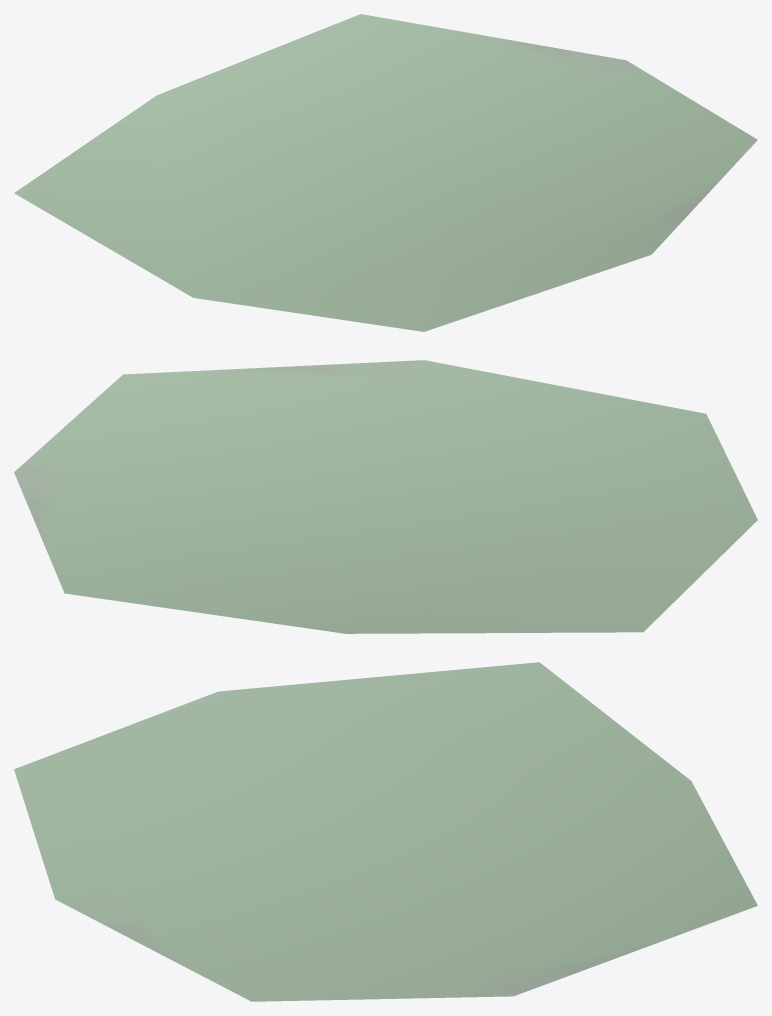
File: TROLLHOLE02_HOLECAP72.fbx
3 views of the same model, one above another, from view 1: azimuth 30°, elevation 25°; view 2: azimuth 150°, elevation 25°; view 3: azimuth 270°, elevation 25° (orthographic). The views are drawn at different scales.
Parts seen in each view (by area): view 1: TROLLHOLE02_HOLECAP72; view 2: TROLLHOLE02_HOLECAP72; view 3: TROLLHOLE02_HOLECAP72.
Boxes of the visible parts, x1,y1,x2,y2 form: TROLLHOLE02_HOLECAP72: [14, 14, 757, 331]; TROLLHOLE02_HOLECAP72: [14, 360, 757, 633]; TROLLHOLE02_HOLECAP72: [14, 662, 757, 1001].
Size of the model in its own units: 20880 by 322 by 19514.
Materials: 1 (1 with a texture image).
